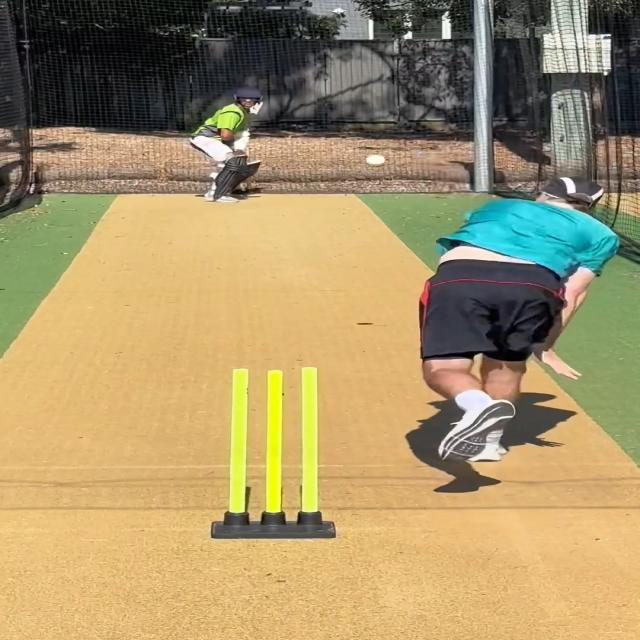ball: (363, 152, 388, 167)
stump: (209, 365, 338, 540)
